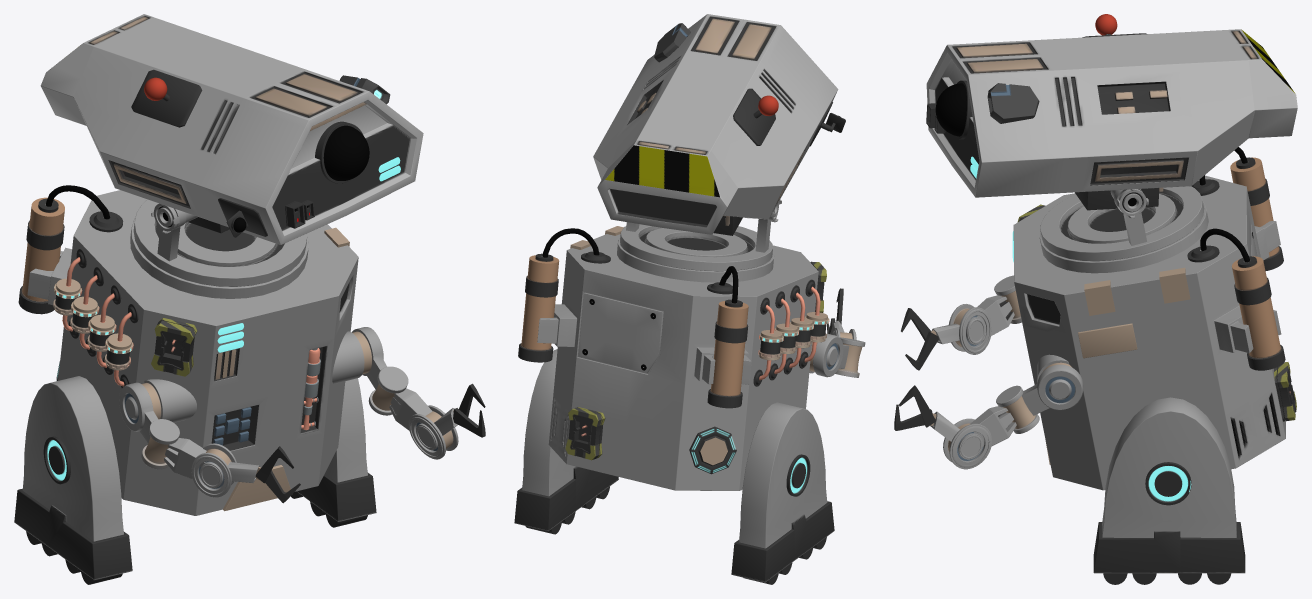
File: sci_fi_worker_robot.glb
3 renders of one model, left to right at view 1: azimuth 30°, elevation 25°; view 2: azimuth 150°, elevation 25°; view 3: azimuth 270°, elevation 25°, orthographic. The views are drawn at different scales.
Visible parts, largest first — view 1: Main Body, Head, Leg right.001, Neck Rotation Plate Top, Leg Left.001, Power Batteries, Tank Right, Arms, Metal plate & Red JoyStick, Neck Rotation Plate, Arms.006, Arms.002 (+8 smaller); view 2: Main Body, Head, Leg right.001, Leg Left.001, Neck Rotation Plate Top, Power Batteries, Tank Right, Tank, Neck Rotation Plate, Power Socket.001, Light/Vent Accessory, Metal plate & Red JoyStick (+6 smaller); view 3: Head, Main Body, Leg Left.001, Neck Rotation Plate Top, Tank, Arms.006, Neck Rotation Plate, Arms.004, Arms.005, Tank Right, Arms.002, Head Light (+5 smaller).
Boxes of the visible parts, bbox=[...] form: Main Body: bbox=[27, 190, 358, 515]; Head: bbox=[40, 14, 423, 244]; Leg right.001: bbox=[14, 376, 132, 584]; Neck Rotation Plate Top: bbox=[133, 199, 307, 286]; Leg Left.001: bbox=[290, 378, 376, 527]; Power Batteries: bbox=[53, 249, 138, 387]; Tank Right: bbox=[18, 197, 64, 314]; Arms: bbox=[119, 379, 196, 443]; Metal plate & Red JoyStick: bbox=[131, 69, 202, 127]; Neck Rotation Plate: bbox=[130, 218, 308, 298]; Arms.006: bbox=[332, 327, 386, 389]; Arms.002: bbox=[191, 443, 260, 497]; Main Body: bbox=[537, 226, 818, 490]; Head: bbox=[593, 14, 838, 235]; Leg right.001: bbox=[731, 402, 834, 584]; Leg Left.001: bbox=[514, 349, 618, 534]; Neck Rotation Plate Top: bbox=[620, 224, 772, 271]; Power Batteries: bbox=[753, 279, 829, 386]; Tank Right: bbox=[707, 299, 748, 408]; Tank: bbox=[518, 253, 559, 362]; Neck Rotation Plate: bbox=[617, 238, 774, 282]; Power Socket.001: bbox=[565, 407, 605, 460]; Light/Vent Accessory: bbox=[689, 426, 736, 474]; Metal plate & Red JoyStick: bbox=[733, 88, 778, 145]; Head: bbox=[926, 29, 1297, 210]; Main Body: bbox=[1013, 175, 1285, 490]; Leg Left.001: bbox=[1093, 397, 1245, 584]; Neck Rotation Plate Top: bbox=[1040, 186, 1204, 261]; Tank: bbox=[1231, 256, 1285, 370]; Arms.006: bbox=[1022, 354, 1083, 415]; Neck Rotation Plate: bbox=[1039, 202, 1208, 273]; Arms.004: bbox=[930, 411, 991, 469]; Arms.005: bbox=[970, 385, 1039, 446]; Tank Right: bbox=[1230, 157, 1283, 270]; Arms.002: bbox=[931, 304, 991, 354]; Head Light: bbox=[987, 83, 1039, 123].
Size of the model in its own units: 4.88 by 8.04 by 6.16.
Materials: 5 (3 with a texture image).
